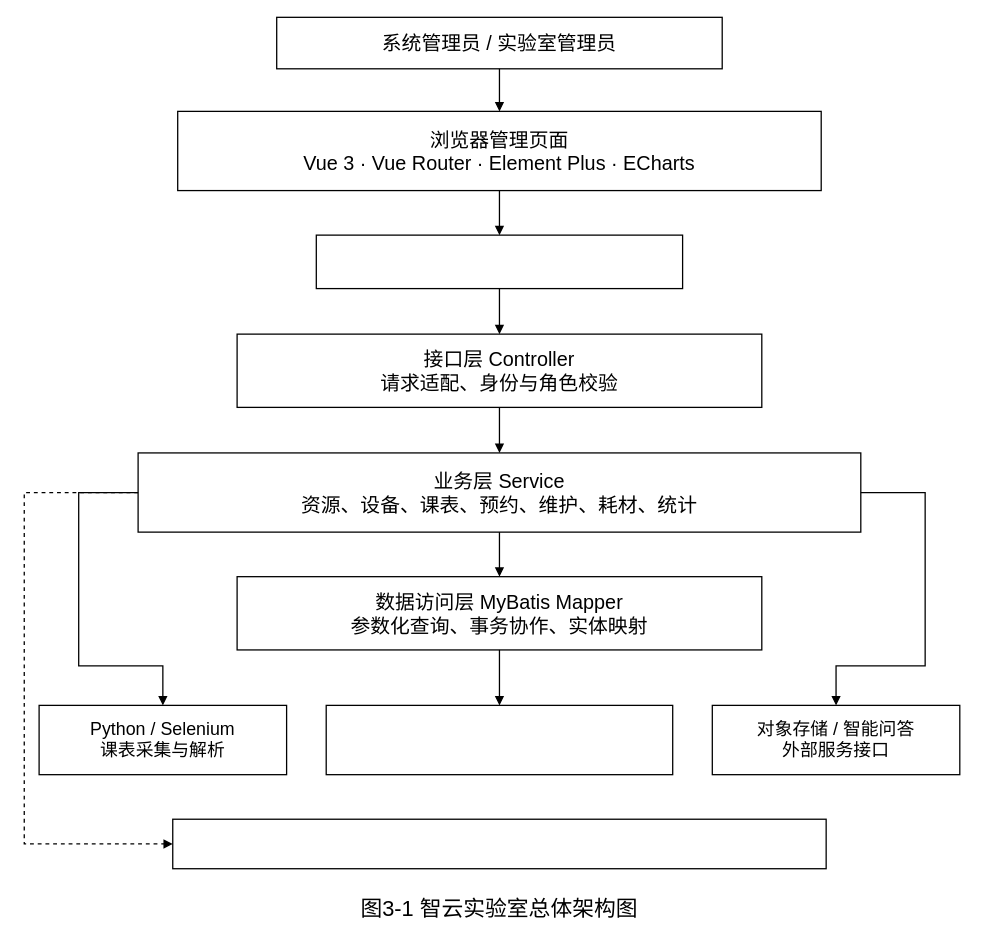
Image size: 982x944. Some labels were removed from this diagram. The shapes that lost their labels are listed below. From the top down, each one's box as (x1, y1, x2, y2) in pixels, then its label:
(315, 234, 683, 289): Axios / HTTP API / JWT
(325, 704, 673, 775): MySQL 业务数据库 smart_lab_basic
(172, 818, 826, 869): 运行监控：Actuator → Prometheus → Grafana
